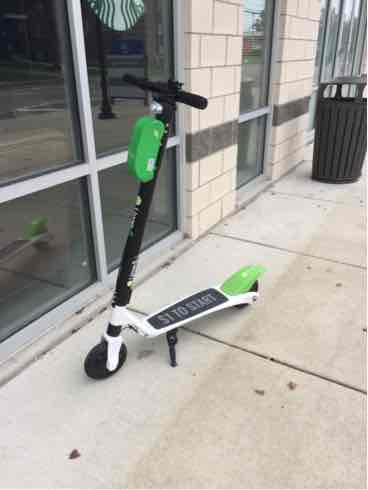scooter: (79, 69, 267, 383)
